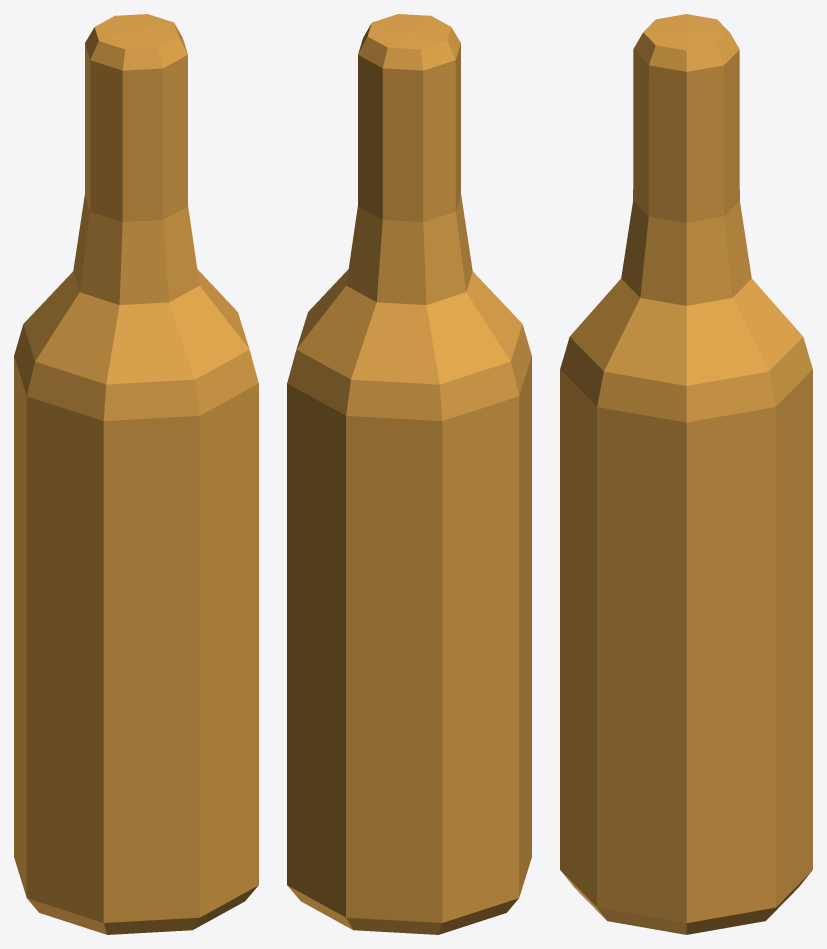
The model's file is rum-bottle.fbx.
3 views of the same model, side by side, from view 1: azimuth 30°, elevation 25°; view 2: azimuth 150°, elevation 25°; view 3: azimuth 270°, elevation 25° (orthographic).
Parts seen in each view (by area): view 1: rum-bottle; view 2: rum-bottle; view 3: rum-bottle.
Boxes of the visible parts, x1,y1,x2,y2 form: rum-bottle: [14, 14, 258, 934]; rum-bottle: [287, 14, 531, 934]; rum-bottle: [560, 14, 812, 934].
Bounding box in the file's own units: 0.0847 × 0.3166 × 0.0847.
